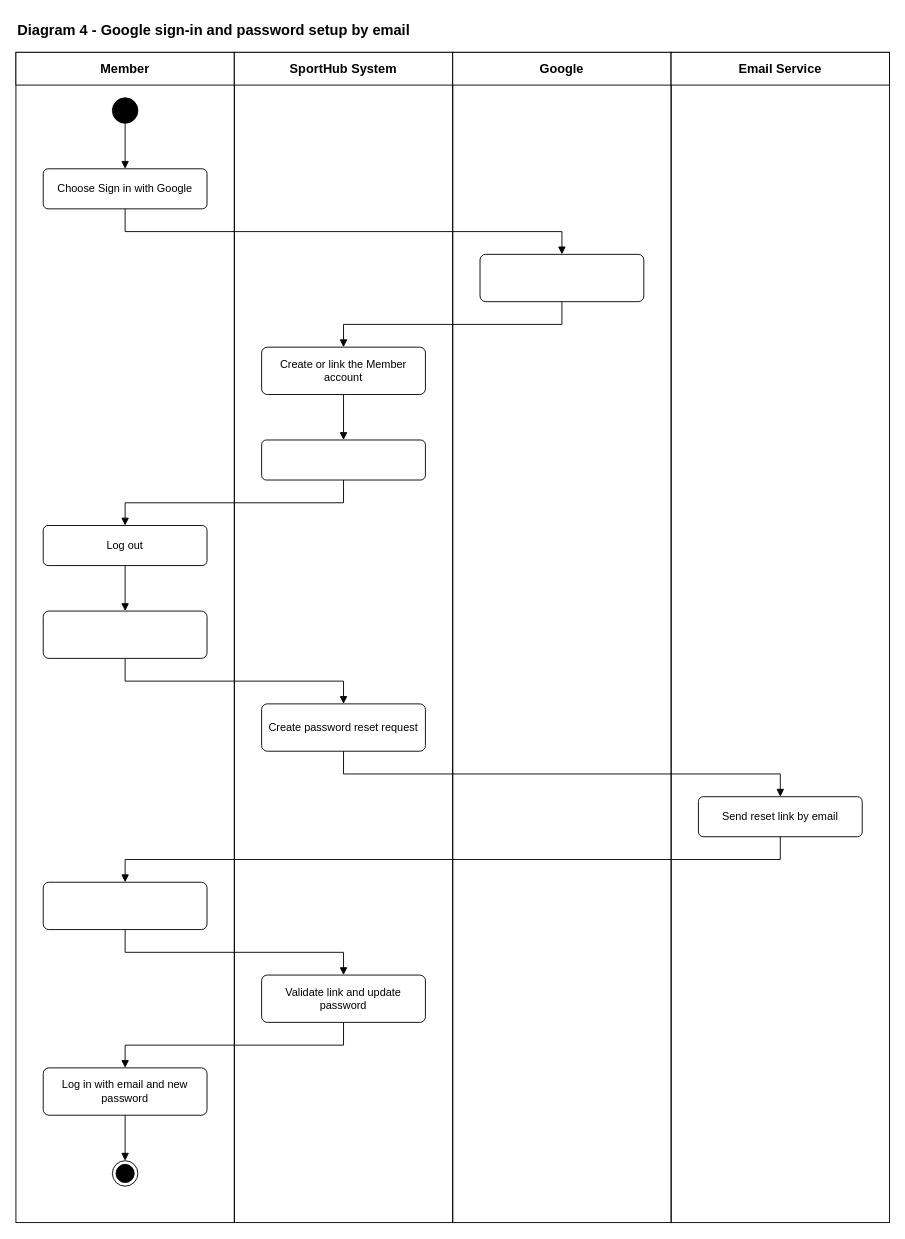
Some shapes in this 905 by 1239 pixel diagram are drawn without their labels. The shapes that lost their labels are listed below. From the top down, each one's centre as x and y in pixels, then its label:
(x=124, y=110): Start
(x=561, y=277): Verify the account and return identity
(x=343, y=459): Sign the Member in
(x=124, y=634): Choose Forgot password and enter the same email
(x=124, y=905): Open link and enter new password twice
(x=124, y=1173): End
